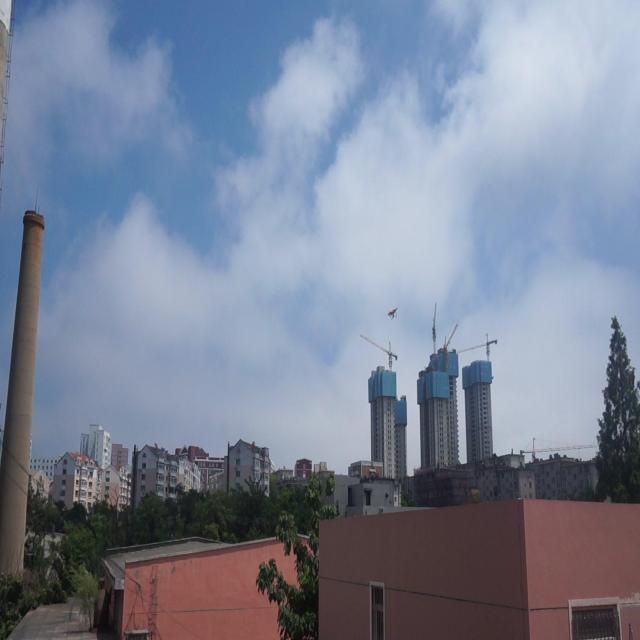drone: (386, 306, 400, 319)
